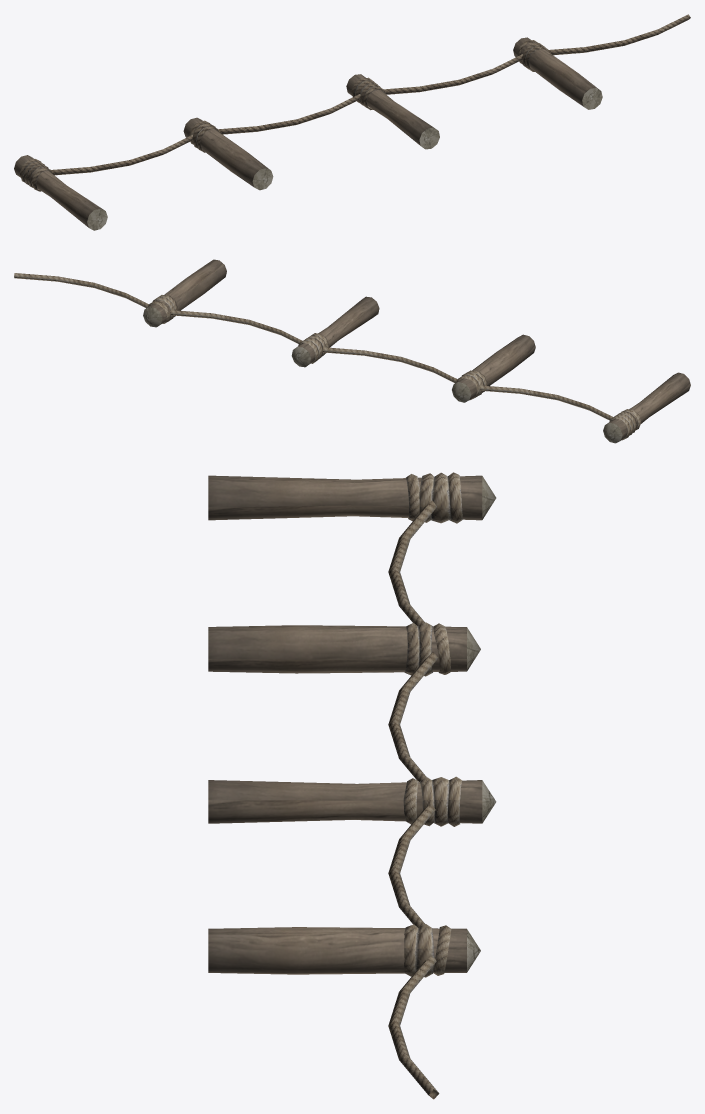
Rendered from Fence_Type_01_D.fbx.
The picture shows the model from 3 angles, top to bottom: view 1: azimuth 30°, elevation 25°; view 2: azimuth 150°, elevation 25°; view 3: azimuth 270°, elevation 25°; orthographic projection. The views are drawn at different scales.
Visible parts, largest first — view 1: Fence_Type_01_D; view 2: Fence_Type_01_D; view 3: Fence_Type_01_D.
Part boxes in pixels (x1,y1,x2,y2): Fence_Type_01_D: [14, 14, 690, 230]; Fence_Type_01_D: [14, 259, 690, 443]; Fence_Type_01_D: [208, 472, 496, 1099].
Size of the model in its own units: 8.05 by 0.303 by 1.61.
